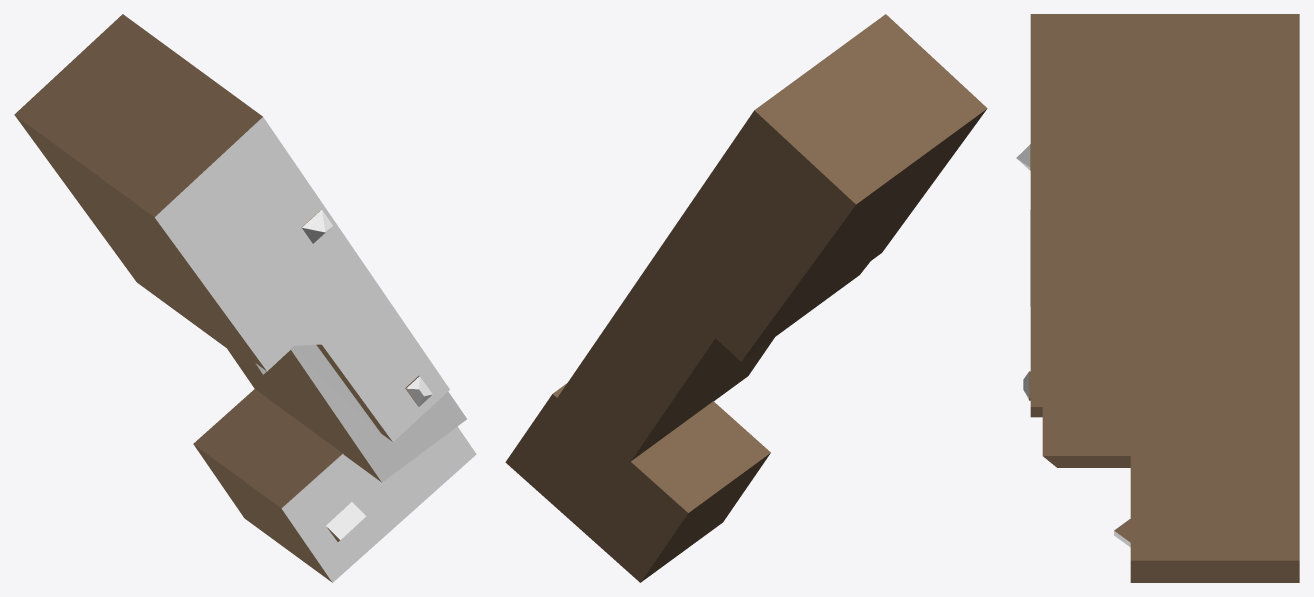
3 renders of one model, left to right at view 1: azimuth 30°, elevation 25°; view 2: azimuth 150°, elevation 25°; view 3: azimuth 270°, elevation 25°, orthographic. The views are drawn at different scales.
Parts seen in each view (by area): view 1: City_PC-27262; view 2: City_PC-27262; view 3: City_PC-27262.
Boxes of the visible parts, x1,y1,x2,y2 form: City_PC-27262: (14, 14, 476, 582); City_PC-27262: (505, 14, 987, 582); City_PC-27262: (1016, 14, 1299, 582).
Size of the model in its own units: 2258 by 3078 by 1545.
